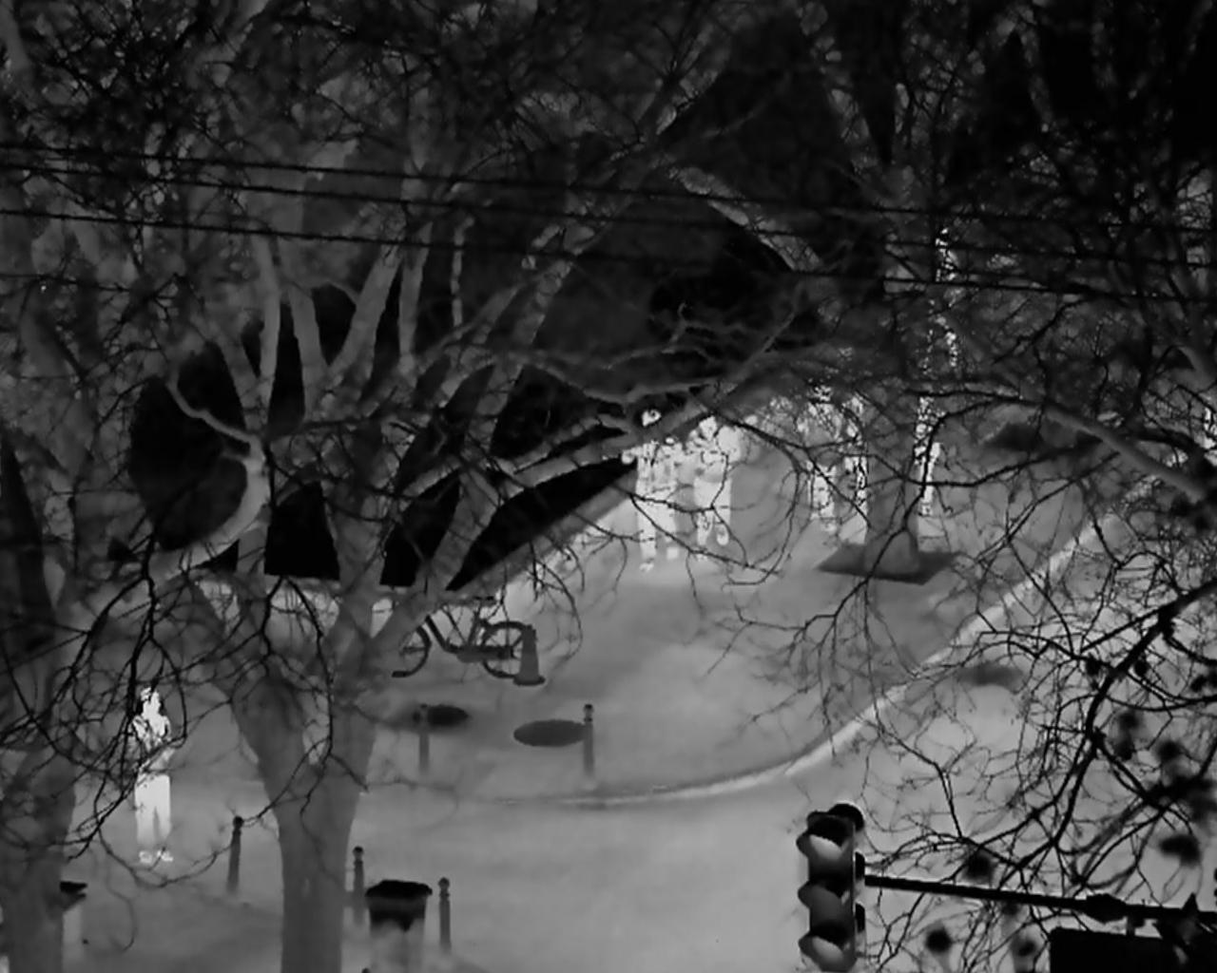person: (124, 687, 179, 864), (622, 436, 686, 570), (685, 413, 745, 547)
